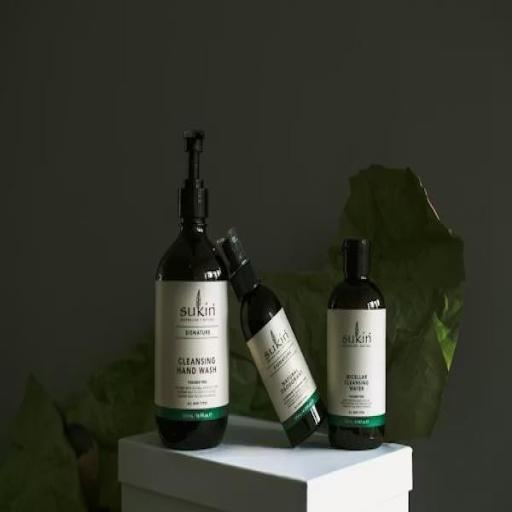bottle: (150, 114, 232, 464), (208, 220, 330, 450), (318, 232, 394, 464)
